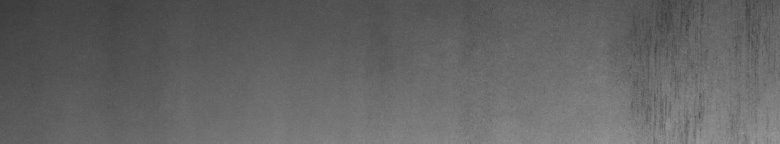ka: (631, 4, 765, 136)
